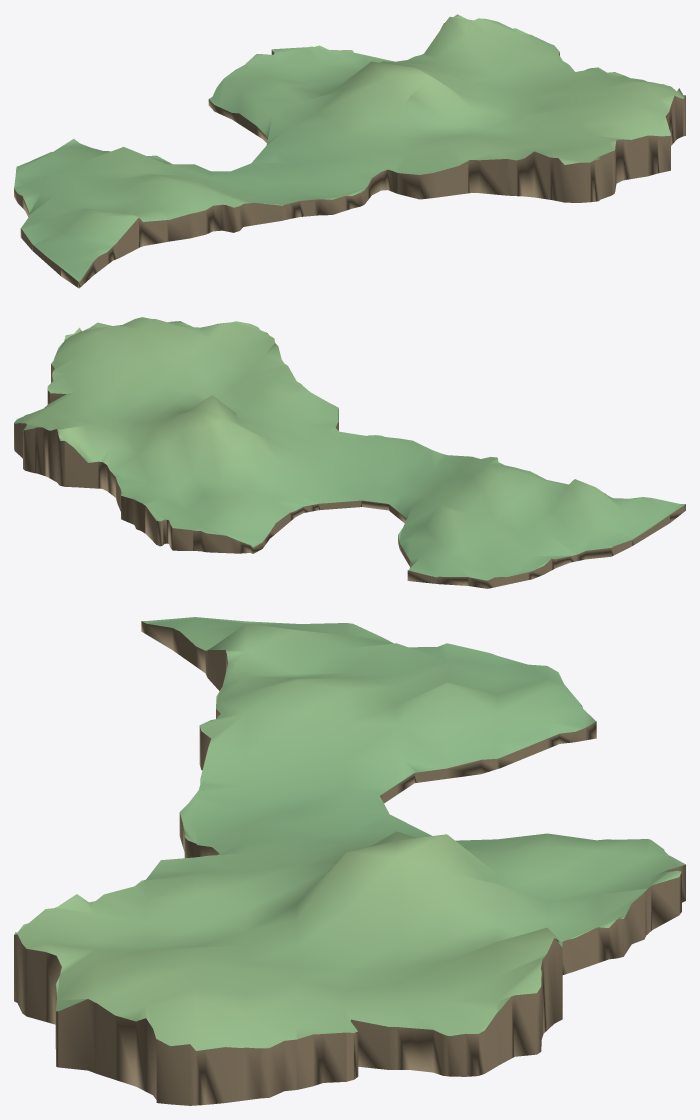
Rendered from LVA.glb.
The picture shows the model from 3 angles, top to bottom: view 1: azimuth 30°, elevation 25°; view 2: azimuth 150°, elevation 25°; view 3: azimuth 270°, elevation 25°; orthographic projection. The views are drawn at different scales.
Parts seen in each view (by area): view 1: LVA; view 2: LVA; view 3: LVA.
Boxes of the visible parts, x1=… form: LVA: x1=14, y1=14, x2=685, y2=288; LVA: x1=14, y1=317, x2=685, y2=588; LVA: x1=14, y1=617, x2=685, y2=1105.
Bounding box in the file's own units: 1.77 × 0.1736 × 1.06.
